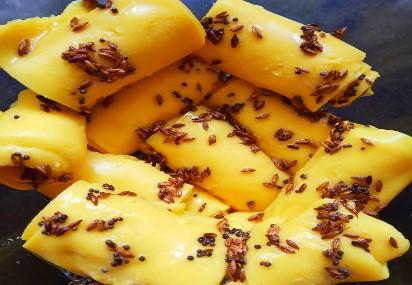khandvi: (3, 6, 412, 285)
